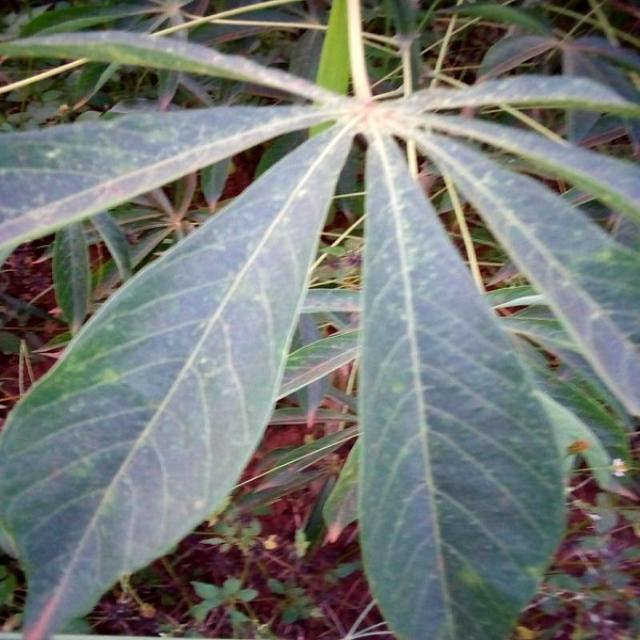cassava leaf: (0, 1, 638, 638), (0, 113, 357, 637), (356, 127, 569, 638)
